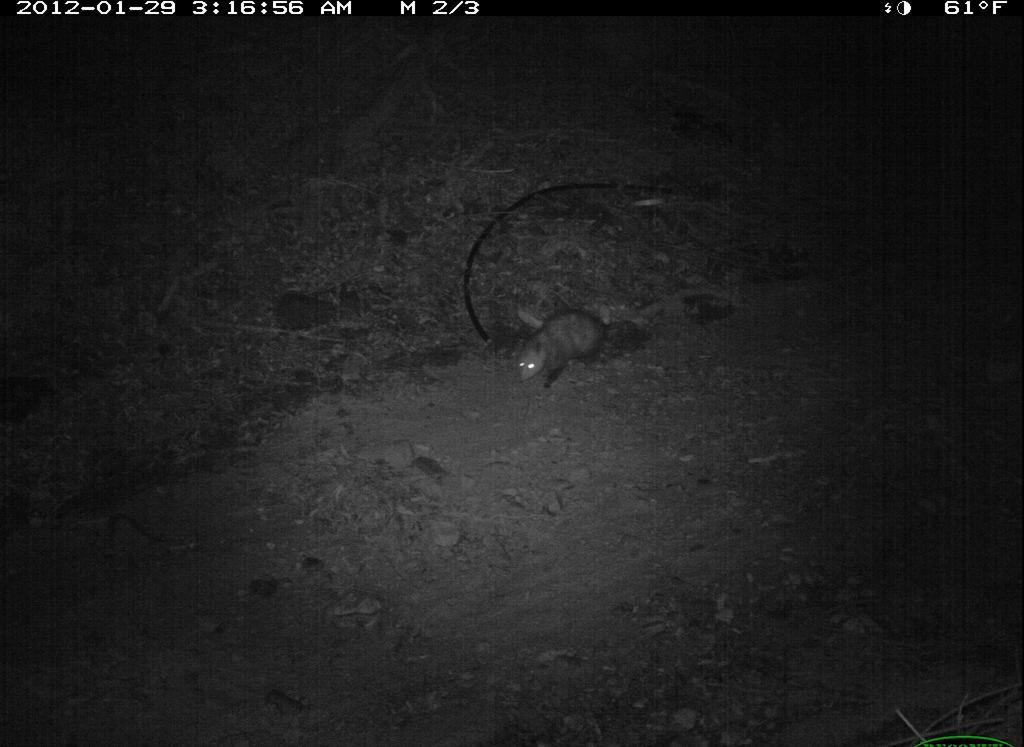opossum: (506, 295, 630, 400)
